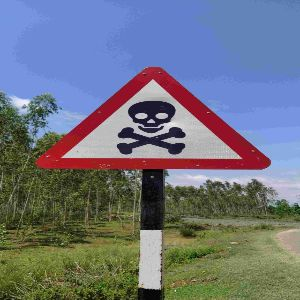Accident prone area: (24, 60, 280, 183)
